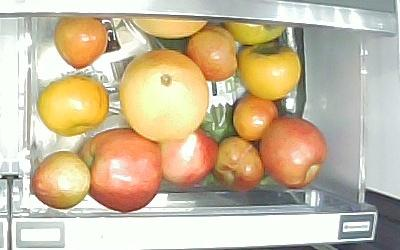apple: (78, 127, 162, 213), (258, 116, 329, 189), (158, 127, 221, 190)
grapefruit: (118, 48, 210, 143), (130, 17, 211, 40)
persimmon: (37, 75, 109, 137), (237, 44, 301, 100), (223, 19, 288, 47)
prune: (31, 150, 91, 210), (185, 25, 239, 82), (53, 16, 107, 70), (213, 136, 265, 192), (231, 94, 280, 141)
